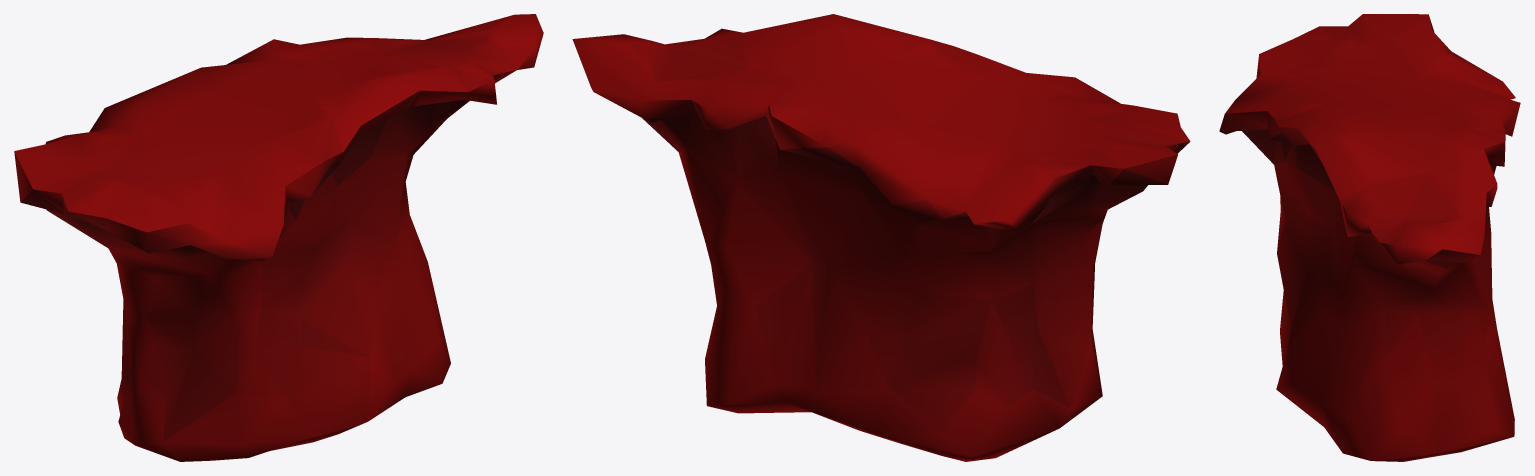
File: env_siderock_medium02_lod3.fbx
3 views of the same model, side by side, from view 1: azimuth 30°, elevation 25°; view 2: azimuth 150°, elevation 25°; view 3: azimuth 270°, elevation 25° (orthographic). The views are drawn at different scales.
Visible parts, largest first — view 1: env_siderock_medium02_lod3; view 2: env_siderock_medium02_lod3; view 3: env_siderock_medium02_lod3.
Boxes of the visible parts, x1,y1,x2,y2 form: env_siderock_medium02_lod3: [14, 14, 543, 461]; env_siderock_medium02_lod3: [572, 14, 1190, 461]; env_siderock_medium02_lod3: [1219, 14, 1520, 461].
Size of the model in its own units: 127 by 75.68 by 65.98.
